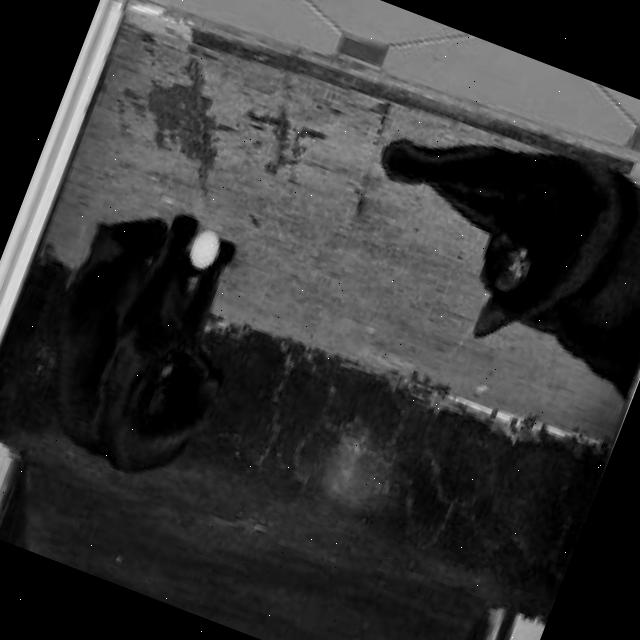ping-pong-ball: (184, 227, 230, 277)
